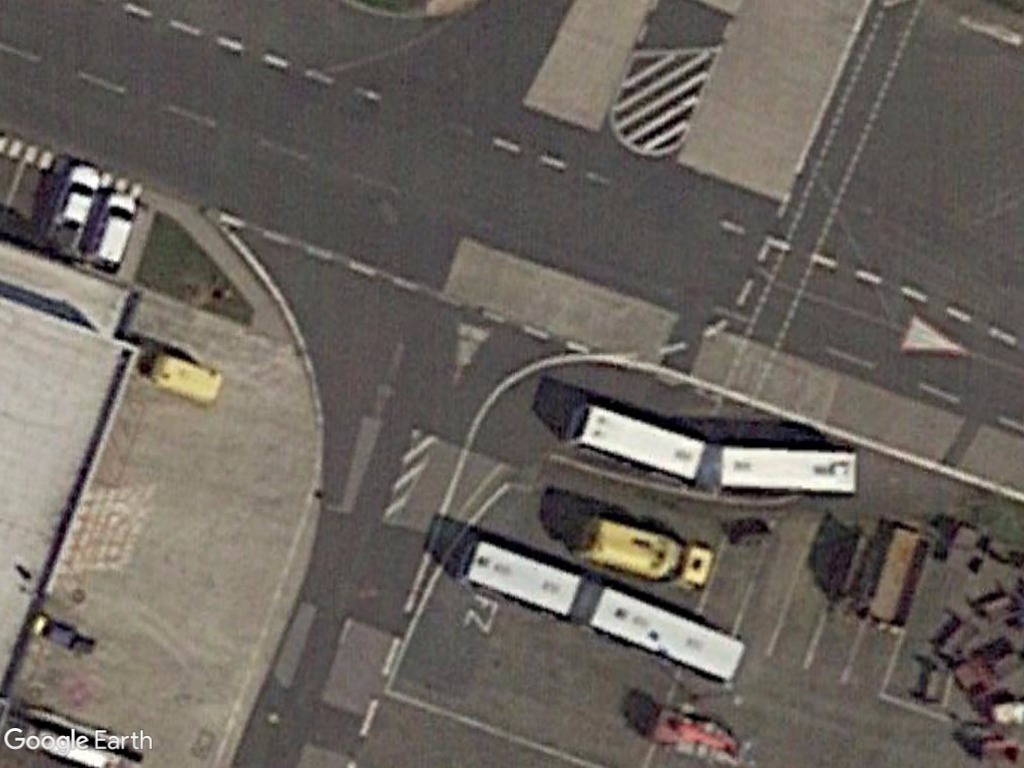bus: (580, 574, 753, 687), (561, 399, 709, 486), (456, 536, 584, 625), (710, 434, 862, 503)
car: (40, 160, 105, 253), (86, 188, 142, 274)
